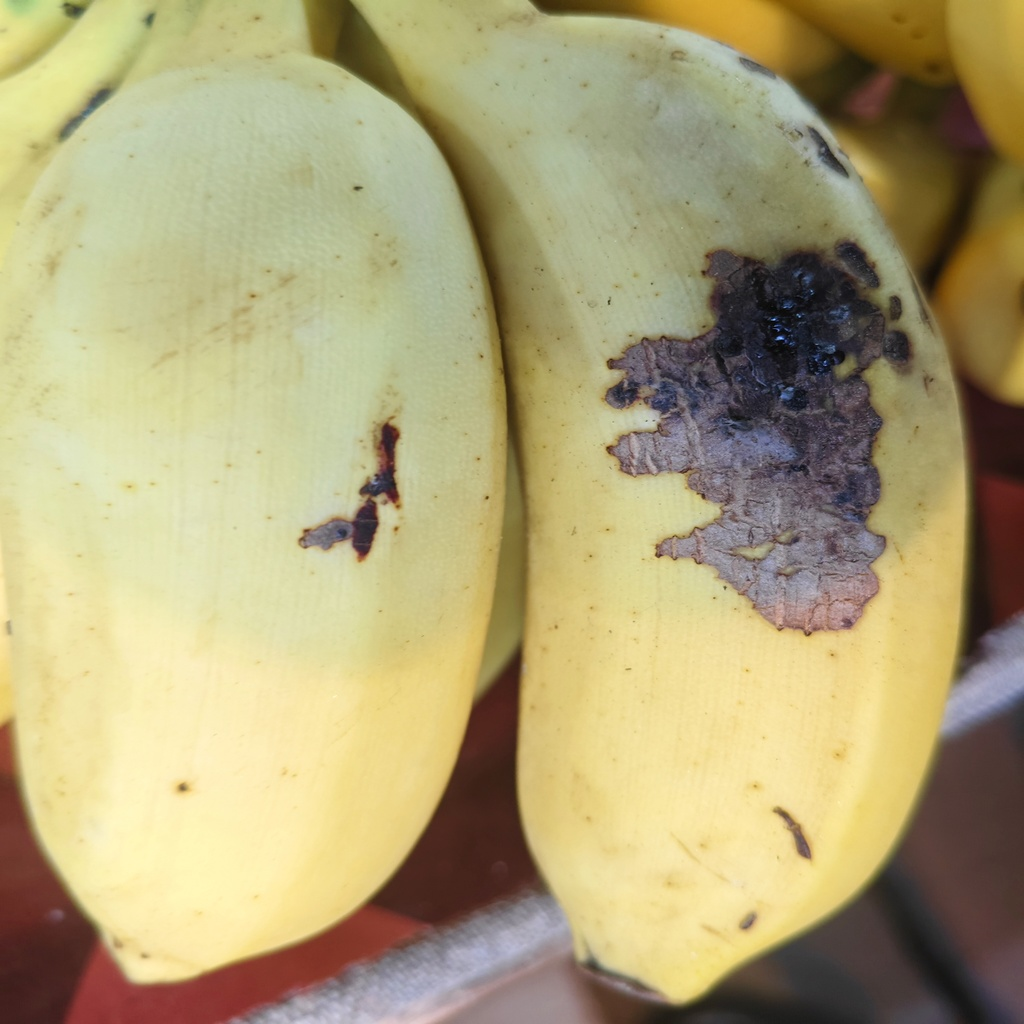unhealthy: (385, 16, 971, 999), (1, 52, 507, 985)
